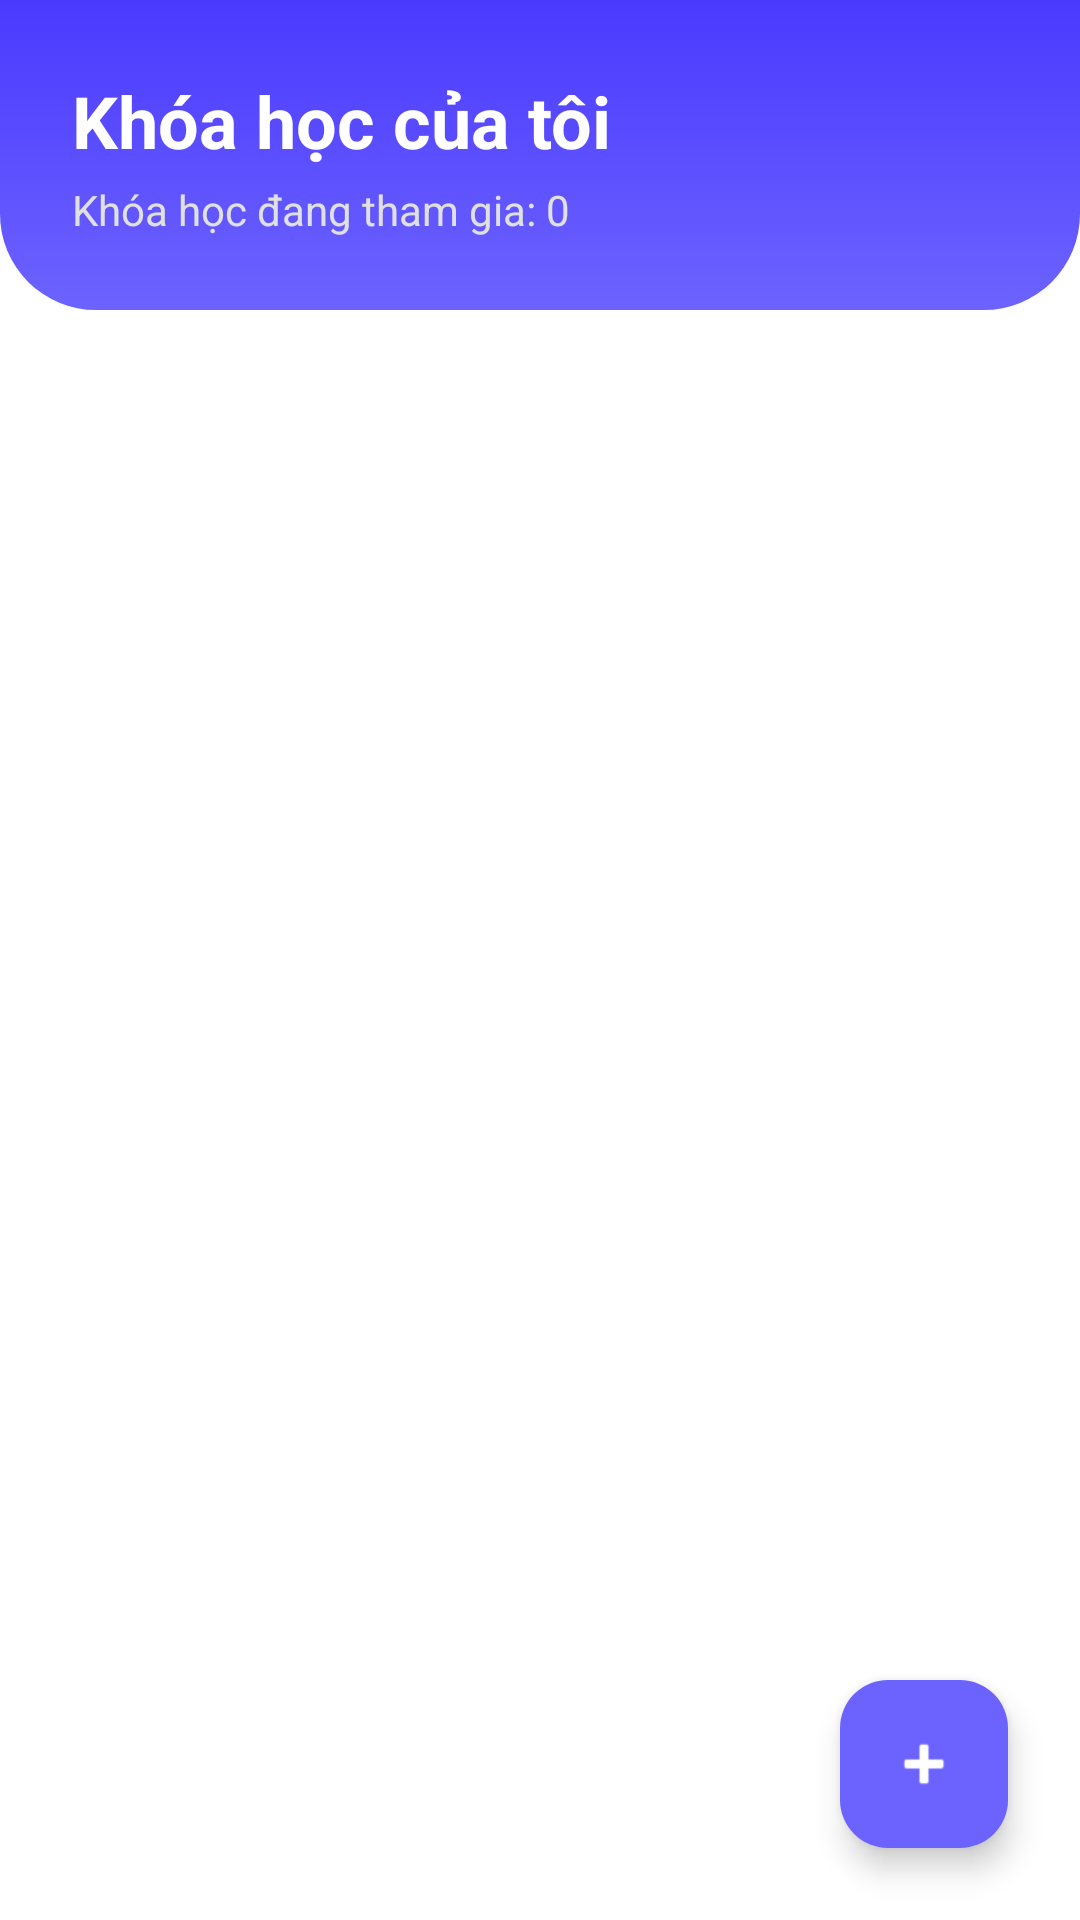

Icon click points for this 1080x1920 phone screenshot, format point (x, y):
Add Course: point (924, 1764)
